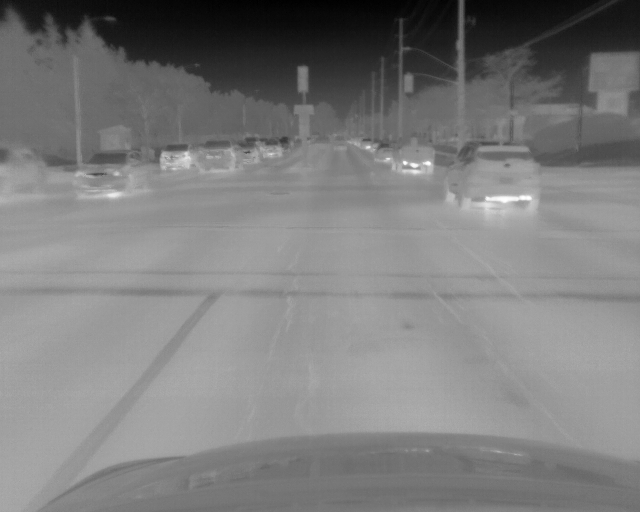car: (445, 140, 539, 211), (74, 151, 147, 196), (1, 146, 47, 198), (392, 139, 434, 174), (199, 141, 238, 172), (158, 144, 193, 170), (242, 144, 259, 162), (263, 143, 282, 157), (373, 146, 392, 160), (359, 138, 371, 149)
